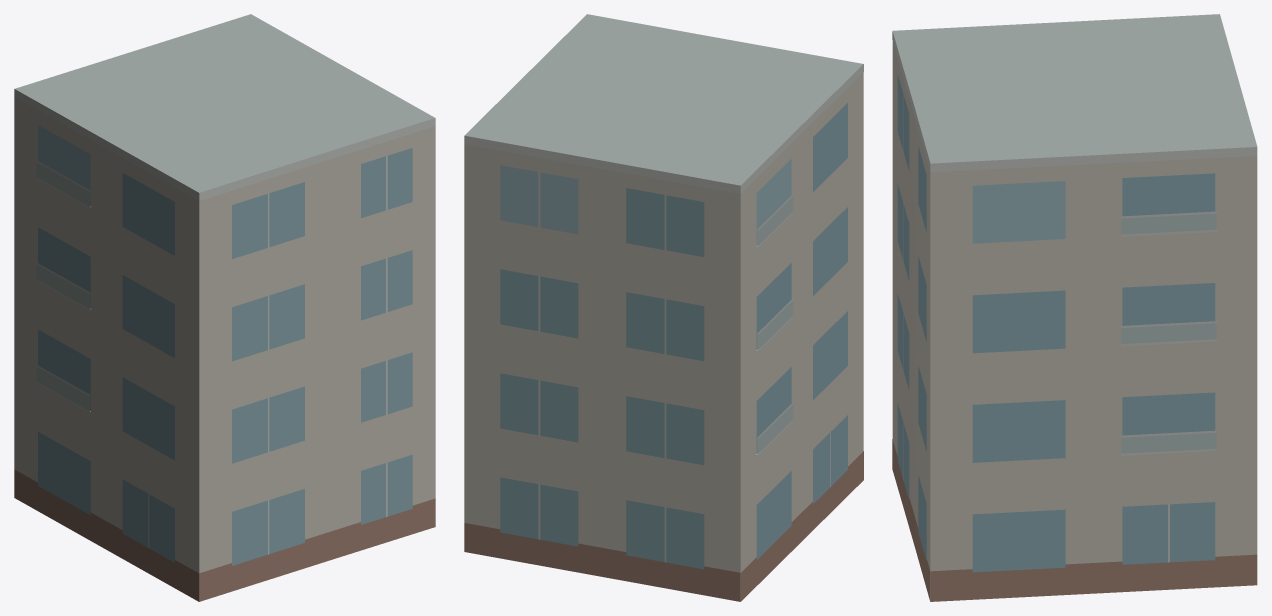
The model's file is residential-2f6980ba-d246-4311-9bc6-24a9d4acad95.glb.
3 renders of one model, left to right at view 1: azimuth 30°, elevation 25°; view 2: azimuth 150°, elevation 25°; view 3: azimuth 270°, elevation 25°, orthographic. The views are drawn at different scales.
Visible parts, largest first — view 1: residential-2f6980ba-d246-4311-9bc6-24a9d4acad95.tmp; view 2: residential-2f6980ba-d246-4311-9bc6-24a9d4acad95.tmp; view 3: residential-2f6980ba-d246-4311-9bc6-24a9d4acad95.tmp.
Boxes of the visible parts, left/top/right/bottom form: residential-2f6980ba-d246-4311-9bc6-24a9d4acad95.tmp: left=14, top=14, right=435, bottom=601; residential-2f6980ba-d246-4311-9bc6-24a9d4acad95.tmp: left=464, top=14, right=863, bottom=601; residential-2f6980ba-d246-4311-9bc6-24a9d4acad95.tmp: left=892, top=14, right=1257, bottom=601.
Size of the model in its own units: 8.94 by 12.2 by 9.22.
